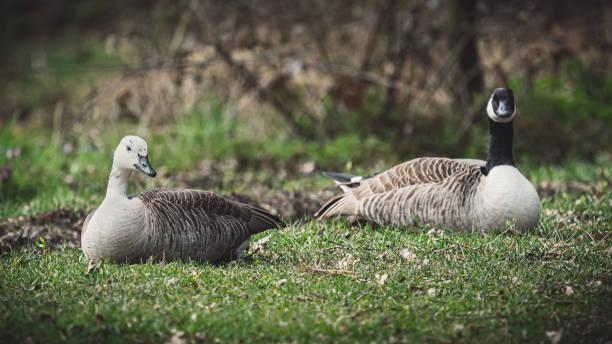Canadian-Goose: (317, 87, 542, 236), (76, 135, 281, 263)
